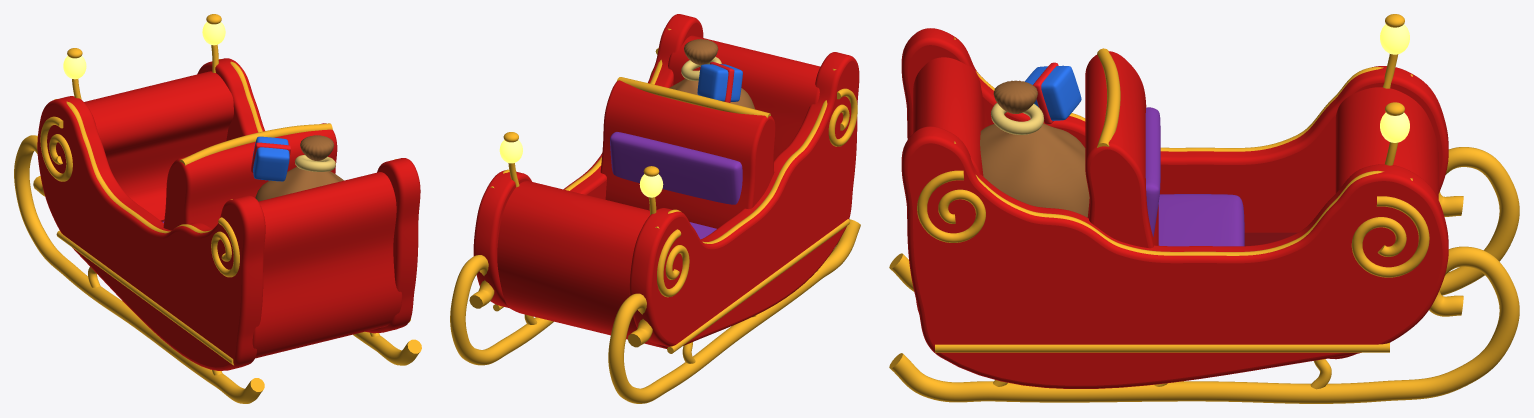
The model's file is sleigh.glb.
3 renders of one model, left to right at view 1: azimuth 30°, elevation 25°; view 2: azimuth 150°, elevation 25°; view 3: azimuth 270°, elevation 25°, orthographic. The views are drawn at different scales.
Visible parts, largest first — view 1: SidePanelL, BackWall, Nose, SeatBack, SidePanelR, Runner, SackBody, GiftB, SeatBackTrim, ScrollFront, TrimBottom, Runner.001 (+7 smaller); view 2: SidePanelL, Nose, SeatBack, Runner, BackWall, SeatBackCushion, SidePanelR, Runner.001, SeatBackTrim, GiftB, ScrollFront, TrimBottom (+8 smaller); view 3: SidePanelR, SidePanelL, Runner.001, SeatBack, SackBody, Nose, BackWall, Runner, SeatCushion, TrimBottom.001, ScrollFront.001, ScrollBack.001 (+9 smaller).
Boxes of the visible parts, <box> form: SidePanelL: <box>37,96,265,370</box>; BackWall: <box>252,172,402,358</box>; Nose: <box>84,71,233,220</box>; SeatBack: <box>163,123,337,230</box>; SidePanelR: <box>197,58,420,333</box>; Runner: <box>14,135,264,403</box>; SackBody: <box>255,166,343,201</box>; GiftB: <box>252,136,289,181</box>; SeatBackTrim: <box>179,123,332,165</box>; ScrollFront: <box>40,116,72,181</box>; TrimBottom: <box>56,230,233,365</box>; Runner.001: <box>353,331,421,365</box>; SidePanelL: <box>629,52,859,346</box>; Nose: <box>497,181,667,348</box>; SeatBack: <box>600,80,775,228</box>; Runner: <box>608,219,860,403</box>; BackWall: <box>668,35,819,160</box>; SeatBackCushion: <box>610,132,742,204</box>; SidePanelR: <box>473,14,703,307</box>; Runner.001: <box>450,255,553,365</box>; SeatBackTrim: <box>616,77,770,118</box>; GiftB: <box>697,64,742,101</box>; ScrollFront: <box>657,229,689,297</box>; TrimBottom: <box>667,219,849,353</box>; SidePanelR: <box>901,126,1448,388</box>; SidePanelL: <box>901,28,1448,232</box>; Runner.001: <box>889,246,1519,403</box>; SeatBack: <box>1085,51,1158,248</box>; SackBody: <box>980,123,1089,217</box>; Nose: <box>1329,87,1438,359</box>; BackWall: <box>913,57,988,313</box>; Runner: <box>889,147,1519,295</box>; SeatCushion: <box>1158,194,1244,246</box>; TrimBottom.001: <box>935,342,1389,352</box>; ScrollFront.001: <box>1351,196,1429,277</box>; ScrollBack.001: <box>917,170,985,242</box>.
Size of the model in its own units: 1.64 by 1.92 by 3.74.
